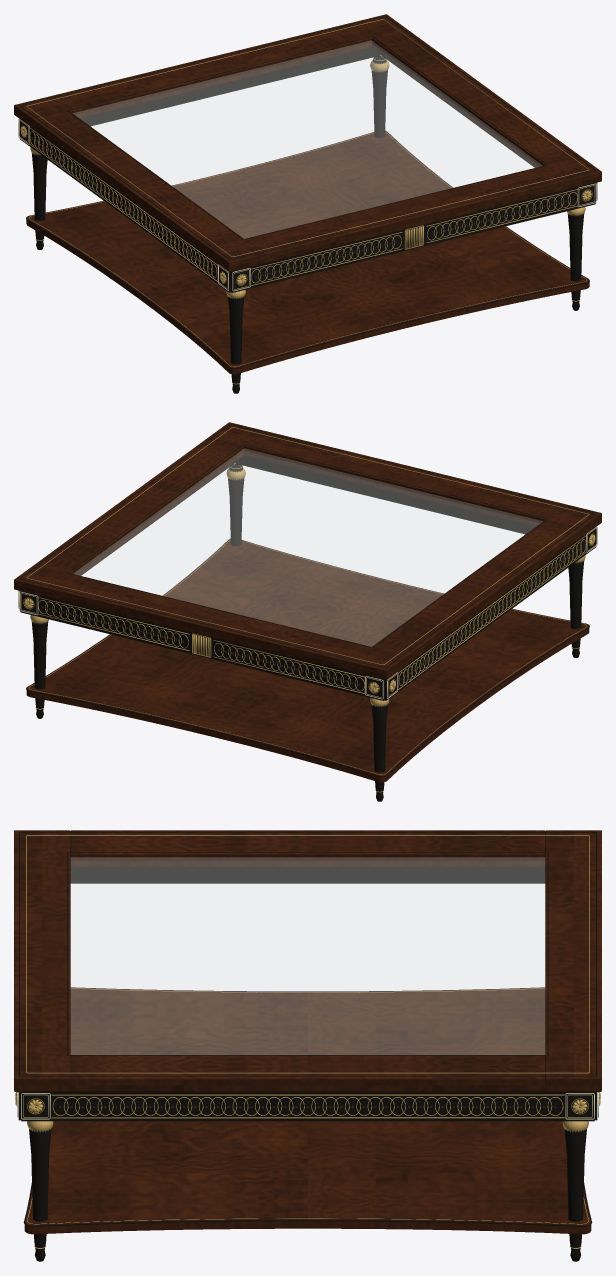
The picture shows the model from 3 angles, top to bottom: view 1: azimuth 30°, elevation 25°; view 2: azimuth 150°, elevation 25°; view 3: azimuth 270°, elevation 25°; orthographic projection. The views are drawn at different scales.
Visible parts, largest first — view 1: Nantes glass-inset coffee table | living-6 web batch; view 2: Nantes glass-inset coffee table | living-6 web batch; view 3: Nantes glass-inset coffee table | living-6 web batch.
Part boxes in pixels (left/top/right/bottom): Nantes glass-inset coffee table | living-6 web batch: left=14, top=14, right=601, bottom=393; Nantes glass-inset coffee table | living-6 web batch: left=14, top=422, right=601, bottom=801; Nantes glass-inset coffee table | living-6 web batch: left=14, top=830, right=601, bottom=1261.
Bounding box in the file's own units: 1.3 × 0.4713 × 1.3.
7 materials, 1 textured.
